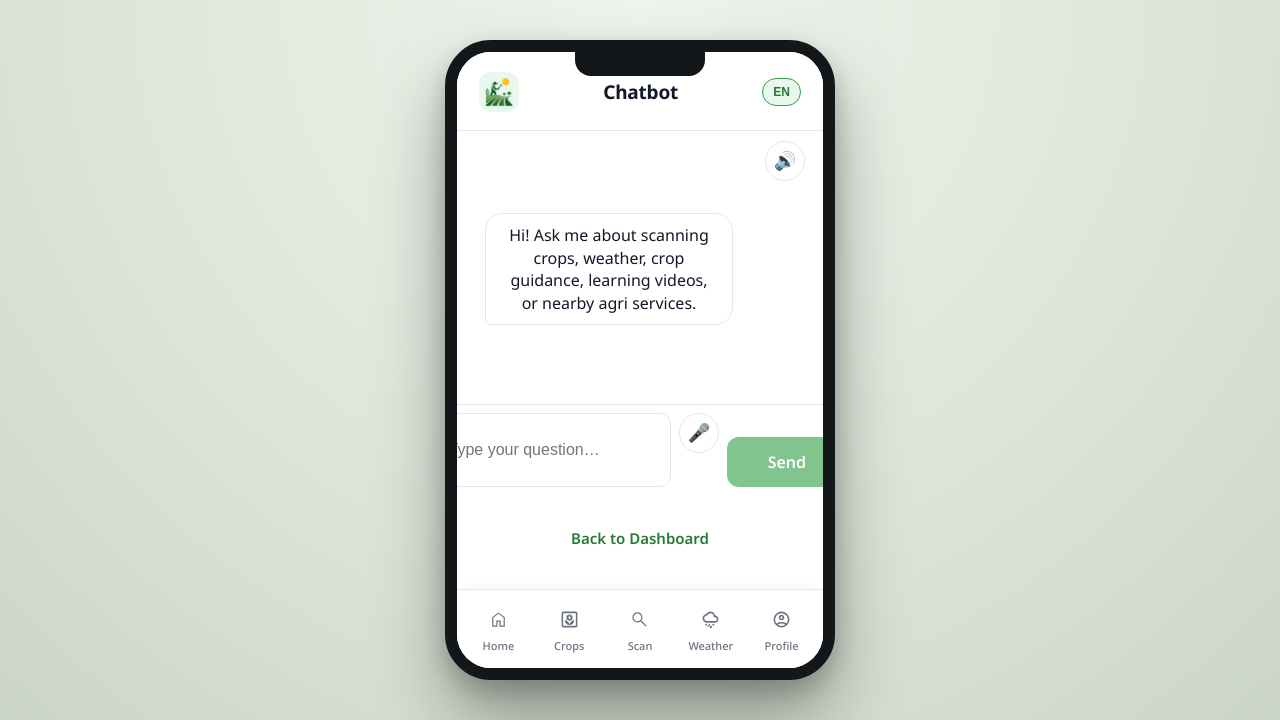
Test case: ChatbotPage › sends a recognized message and shows the bot's matched reply
The image size is (1280, 720).
Type "how do I scan my crop" into the field with placeholder "Type your question…" at (552, 450), box left=433, top=412, right=671, bottom=486
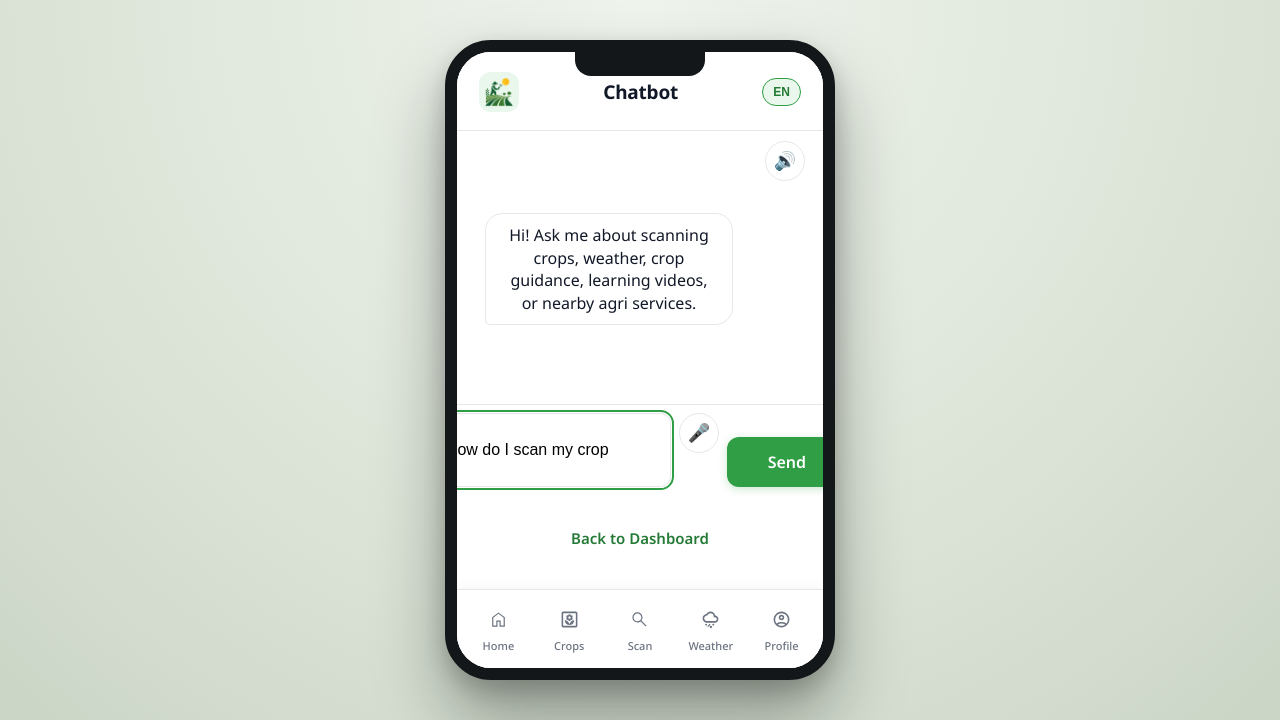
Click the button "Send" at (787, 462), box left=727, top=436, right=847, bottom=486
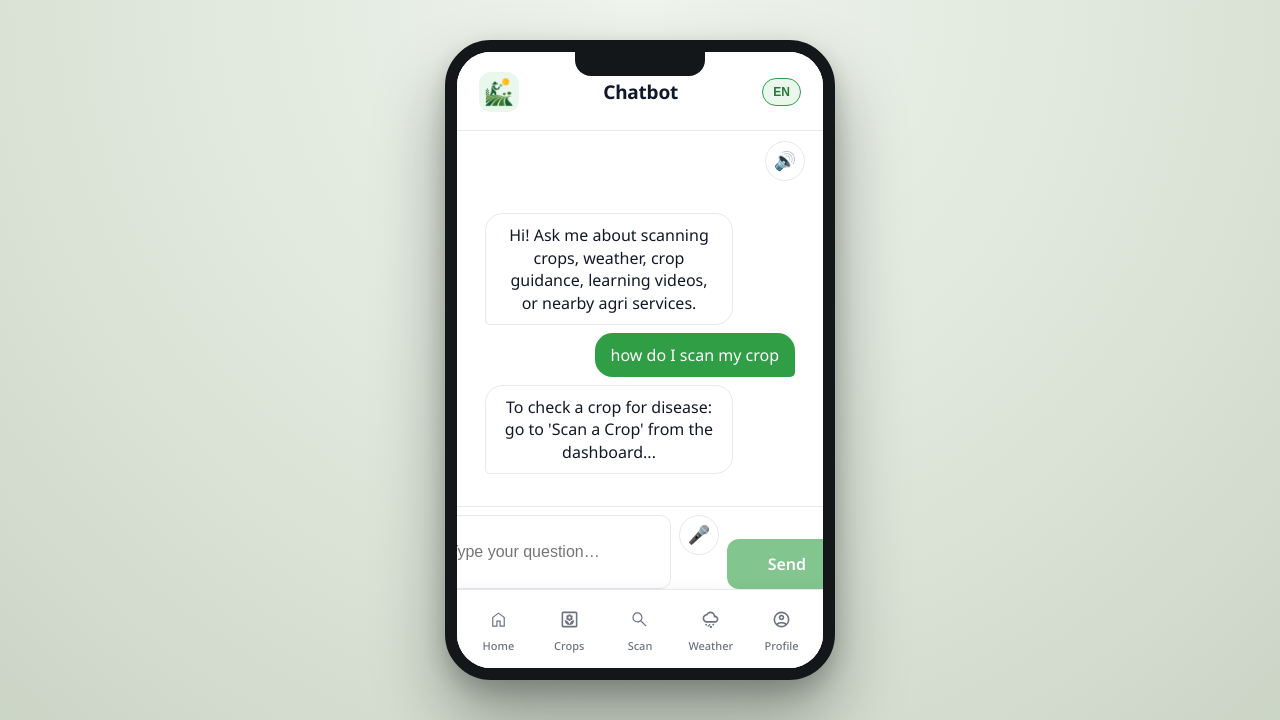
Check: the text "how do I scan my crop" is shown, box left=595, top=333, right=795, bottom=376
Check: the text "go to 'Scan a Crop'" is shown, box left=505, top=396, right=717, bottom=463
